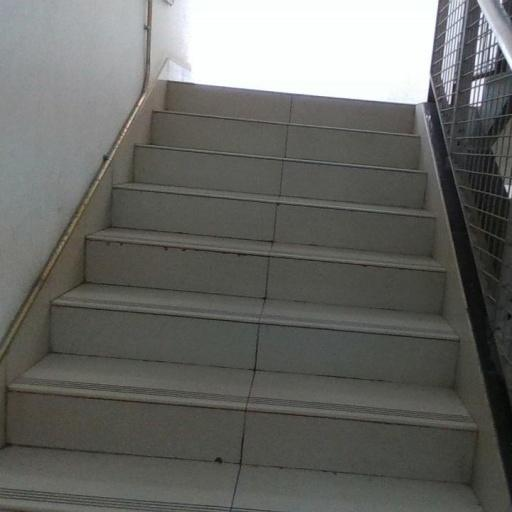stairs: (0, 84, 479, 511)
